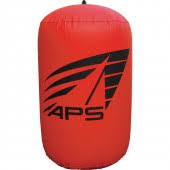buoy: (37, 5, 132, 170)
